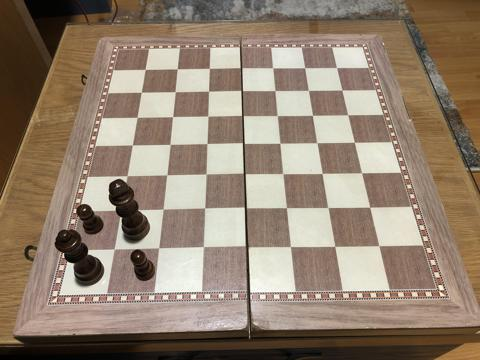xcorner: (300, 61, 312, 73), (268, 62, 280, 74), (236, 62, 248, 74), (204, 62, 216, 74), (172, 63, 184, 75), (140, 63, 152, 75), (337, 83, 349, 95), (304, 84, 316, 96), (270, 84, 282, 96), (237, 85, 249, 97), (203, 85, 215, 97), (170, 85, 182, 97), (136, 86, 148, 98), (343, 108, 355, 120), (308, 109, 320, 121), (273, 109, 285, 121), (237, 110, 249, 122), (202, 110, 214, 122), (132, 111, 144, 123), (350, 136, 362, 148), (313, 136, 325, 148), (238, 137, 250, 149), (201, 138, 213, 150), (164, 138, 176, 150), (127, 139, 139, 151), (357, 167, 369, 179), (318, 167, 330, 179), (279, 168, 291, 180), (239, 168, 251, 180), (200, 169, 212, 181), (160, 169, 172, 181), (121, 170, 133, 182), (324, 202, 336, 214), (282, 203, 294, 215), (240, 203, 252, 215), (199, 204, 211, 216), (157, 204, 169, 216), (115, 205, 127, 217), (375, 241, 387, 253), (331, 241, 343, 253), (286, 242, 298, 254), (242, 243, 254, 255), (197, 243, 209, 255), (152, 244, 164, 256), (108, 245, 120, 257), (332, 61, 343, 73), (167, 111, 179, 122), (276, 137, 287, 149), (366, 202, 378, 213)
